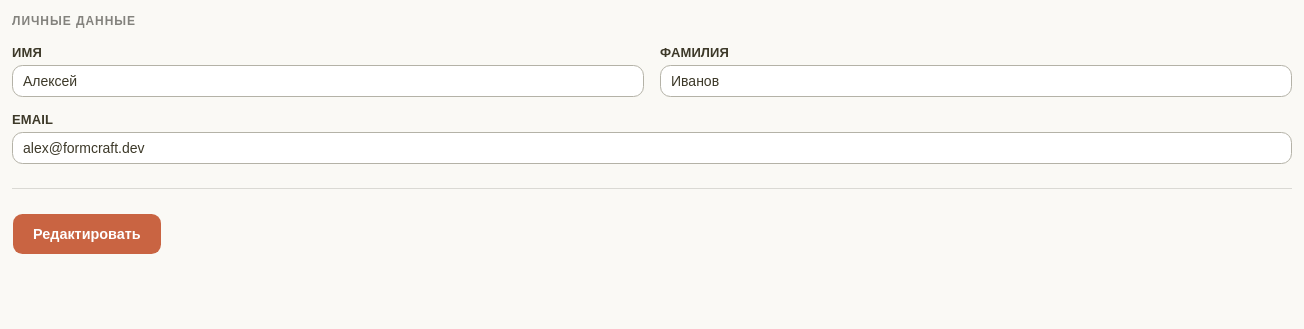
Test: ProfileForm › конфликт email: показывает сообщение и оставляет карточку в режиме редактирования
This screenshot has width=1304, height=329.
Step 1. Click the button "Редактировать" → (87, 234), box top-left (12, 213), bottom-right (162, 255)
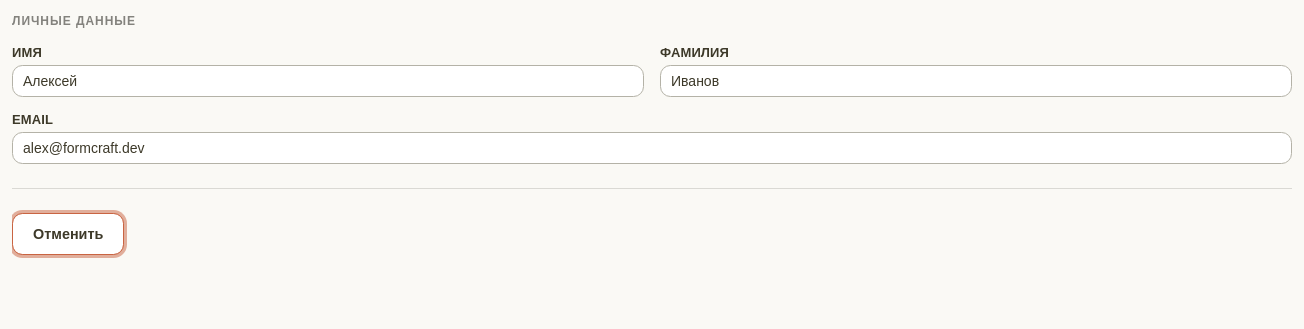
Step 2. Replace the text in the field labelled "Email" with "maria@formcraft.dev" → (652, 148), box top-left (12, 132), bottom-right (1292, 164)
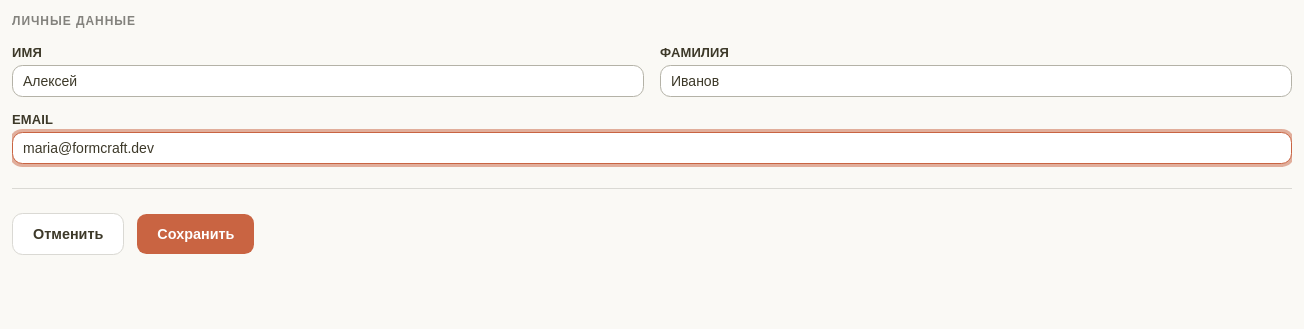
Step 3. Click the button "Сохранить" → (196, 234), box top-left (136, 213), bottom-right (255, 255)
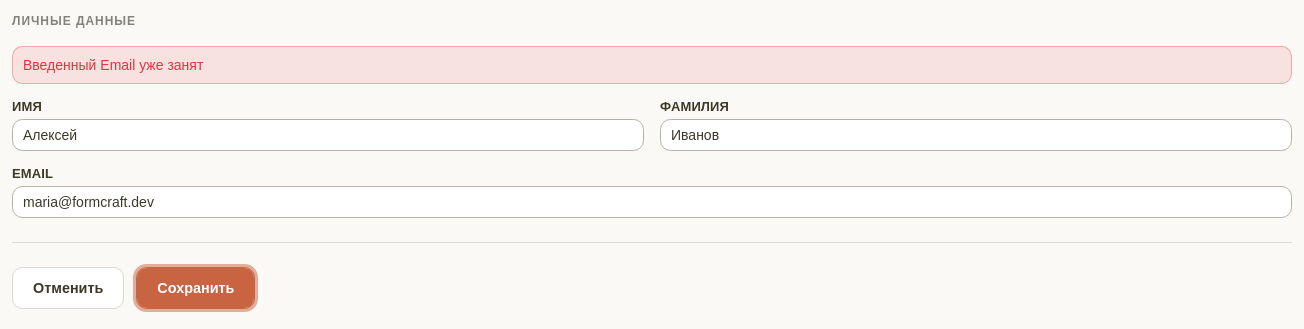
Expected: the button "Отменить" is shown, top-left (12, 267), bottom-right (124, 309)
Expected: the text "Введенный Email уже занят" is shown, top-left (23, 57), bottom-right (203, 73)
